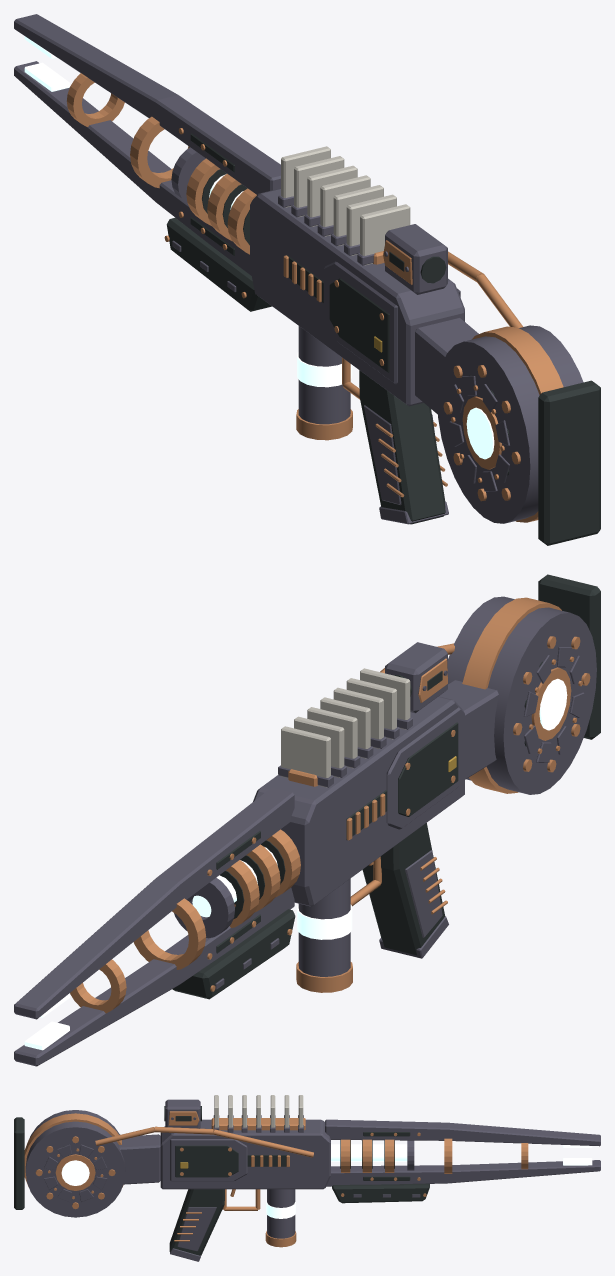
Rendered from laser_4.glb.
The picture shows the model from 3 angles, top to bottom: view 1: azimuth 30°, elevation 25°; view 2: azimuth 150°, elevation 25°; view 3: azimuth 270°, elevation 25°; orthographic projection. The views are drawn at different scales.
Parts seen in each view (by area): view 1: Weapon_laser_v1; view 2: Weapon_laser_v1; view 3: Weapon_laser_v1.
Part boxes in pixels (left/top/right/bottom): Weapon_laser_v1: left=14, top=14, right=600, bottom=545; Weapon_laser_v1: left=14, top=574, right=600, bottom=1066; Weapon_laser_v1: left=14, top=1095, right=600, bottom=1261.
Size of the model in its own units: 0.087 by 0.2927 by 1.
